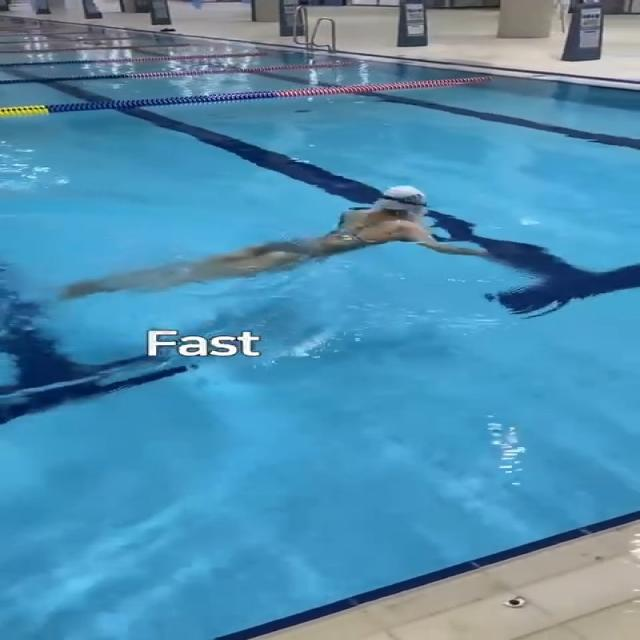Swimming: (56, 182, 492, 302)
